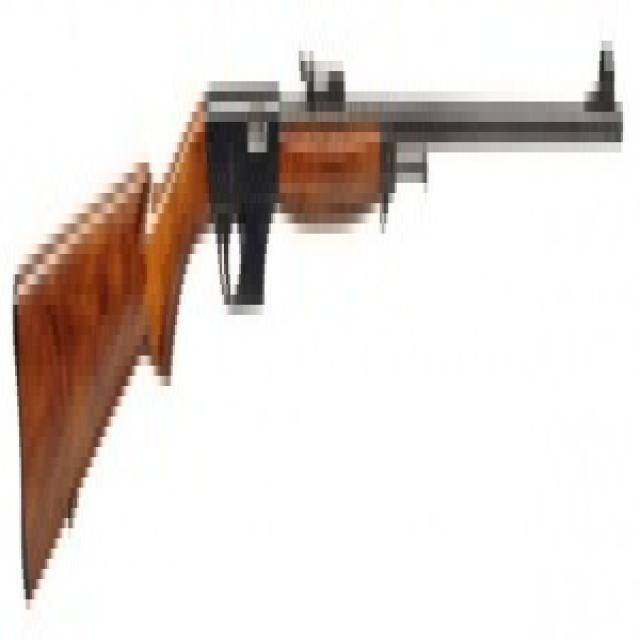rifle: (5, 34, 630, 632)
